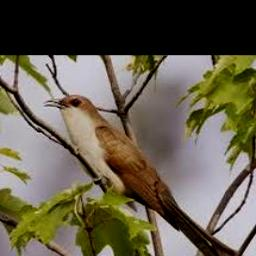Cuckoo: (43, 95, 245, 256)
